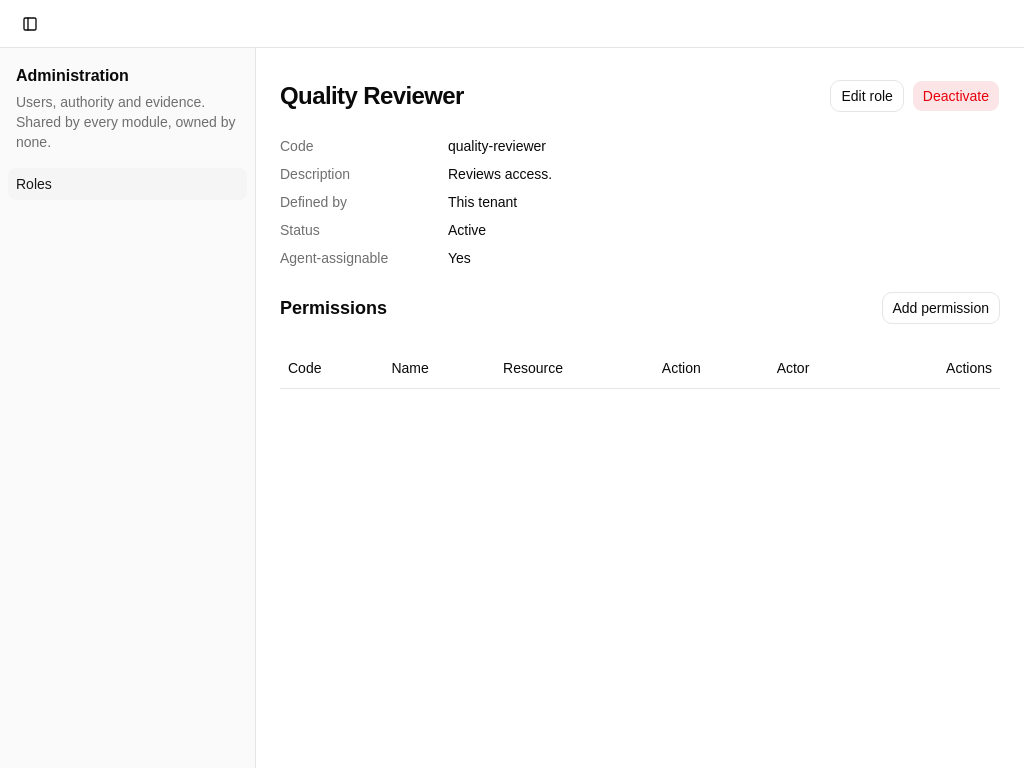
after it succeeds › announces, re-reads, and the action flips to its inverse
Check: the table named "Permissions" is shown, box [280,348,1000,388]
Click the button "Deactivate".
click(956, 96)  # box [912,80,1000,112]
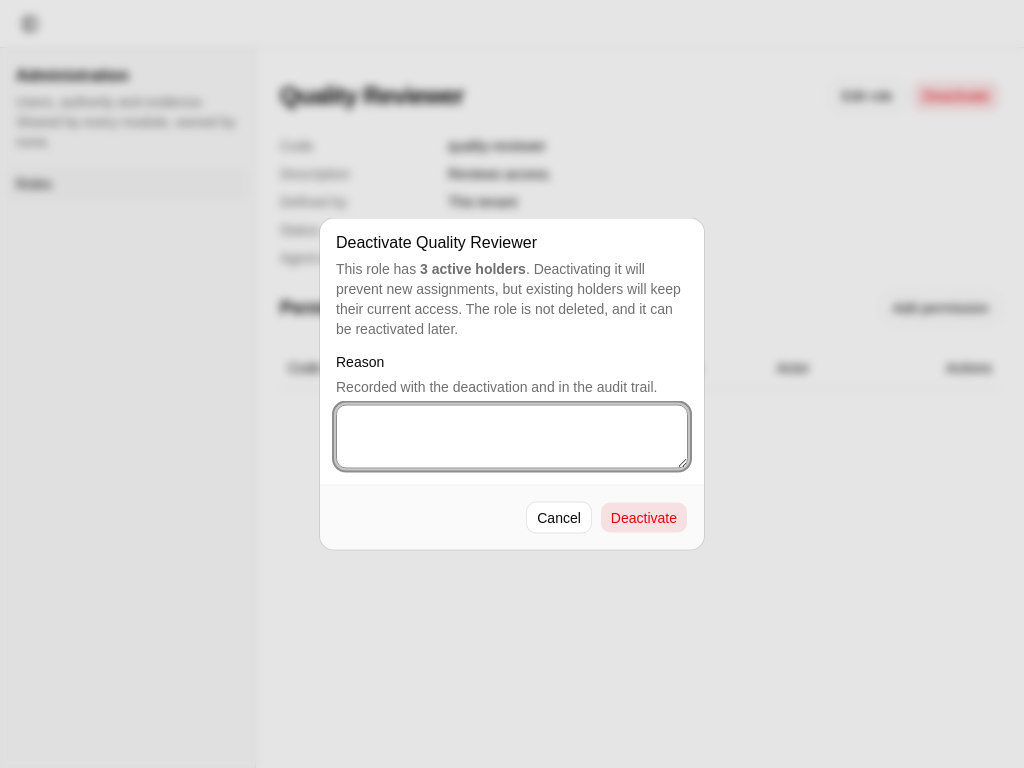
Type "Retired." into the text box labelled "Reason".
click(512, 436); type("Retired.")  # box [336,404,688,468]
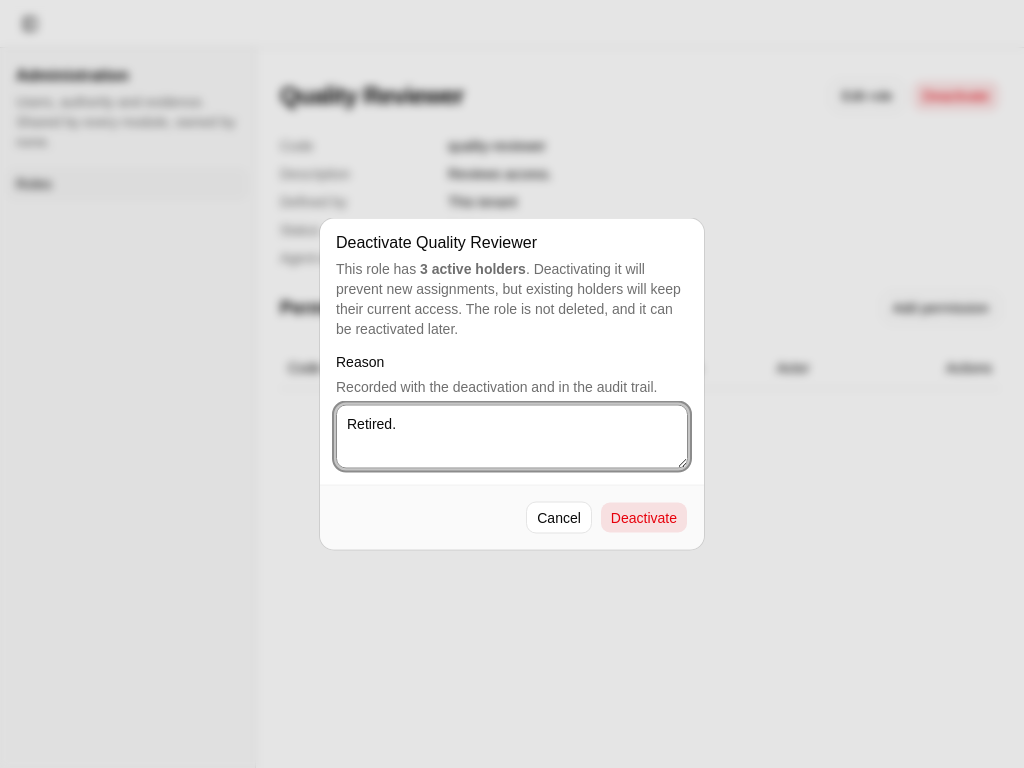
Click the button "Deactivate".
click(644, 518)  # box [600,502,688,534]
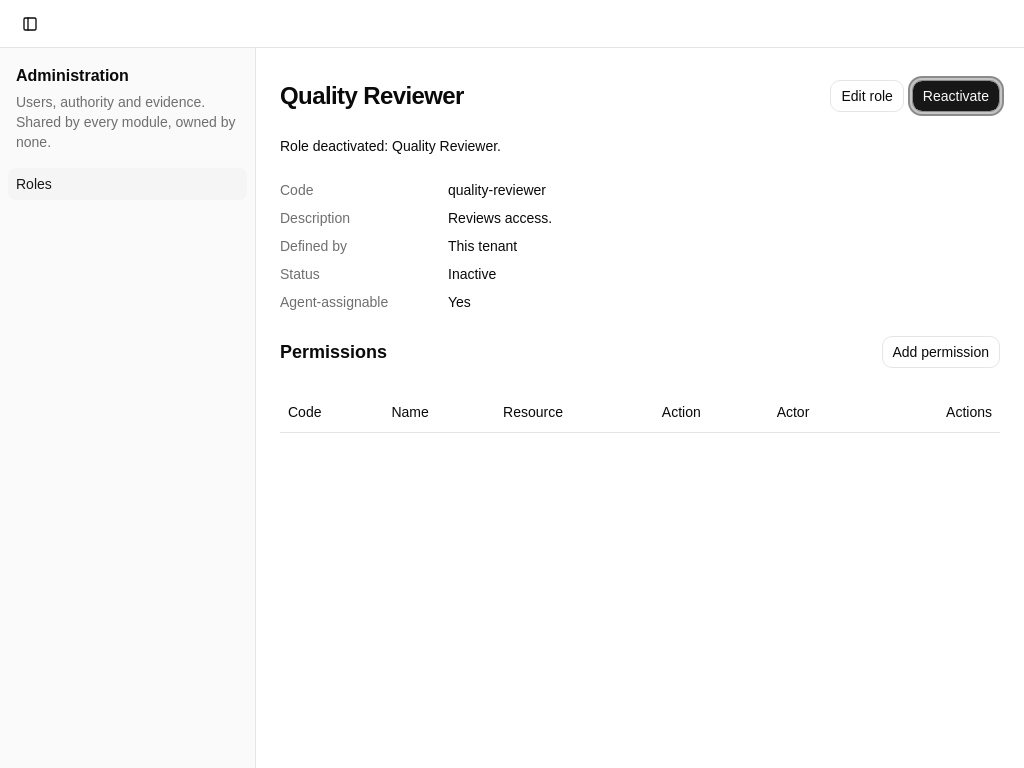
Check: the dialog is gone
Check: the button "Reactivate" is shown, box [912,80,1000,112]
